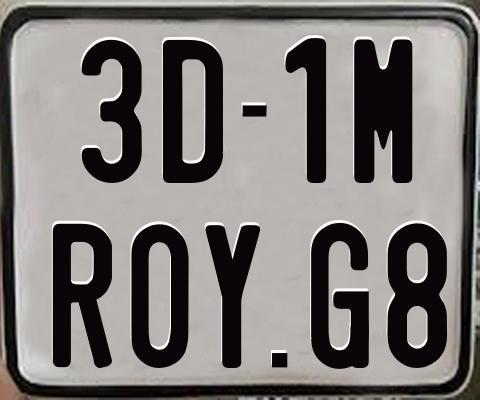0: (130, 221, 194, 368)
1: (284, 38, 328, 189)
3: (82, 38, 144, 182)
8: (387, 221, 451, 368)
D: (161, 37, 221, 180)
G: (310, 223, 374, 369)
M: (352, 37, 414, 186)
R: (52, 223, 112, 371)
Y: (206, 224, 265, 371)
